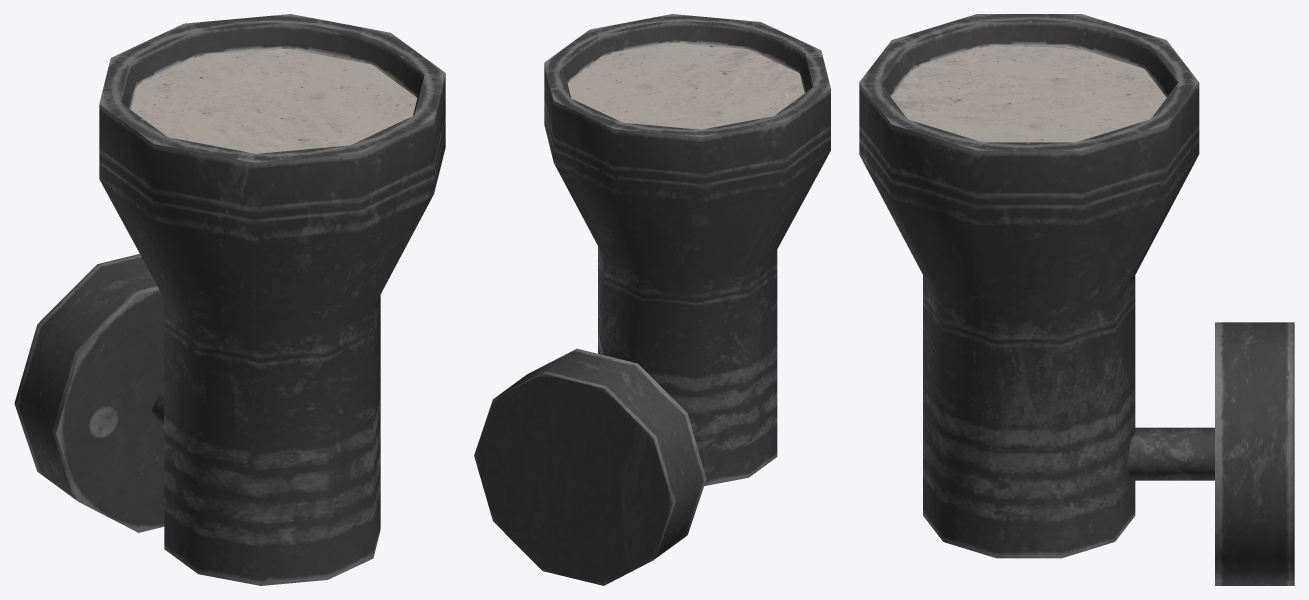
The model's file is wallLightA.fbx.
3 views of the same model, side by side, from view 1: azimuth 30°, elevation 25°; view 2: azimuth 150°, elevation 25°; view 3: azimuth 270°, elevation 25° (orthographic). The views are drawn at different scales.
Visible parts, largest first — view 1: wallLightA; view 2: wallLightA; view 3: wallLightA.
Part boxes in pixels (left/top/right/bottom): wallLightA: left=14, top=14, right=445, bottom=585; wallLightA: left=474, top=14, right=830, bottom=585; wallLightA: left=859, top=14, right=1294, bottom=585.
Bounding box in the file's own units: 12.17 × 20.21 × 16.4.
Materials: 1 (1 with a texture image).
